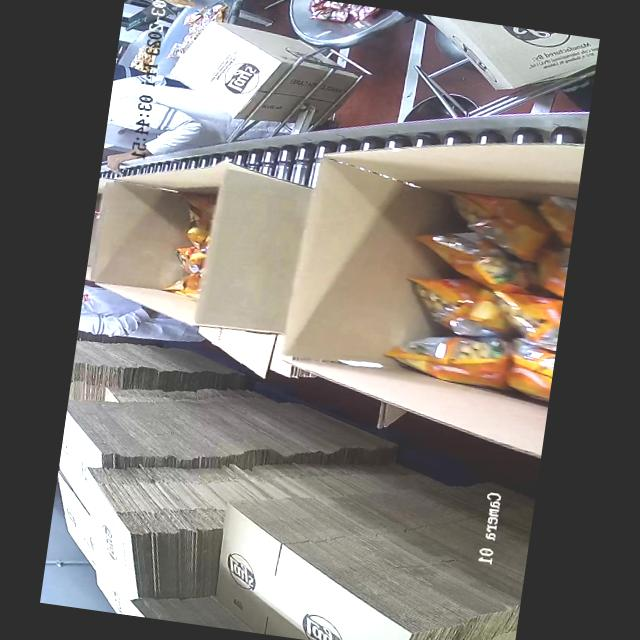cheese: (409, 198, 575, 404), (178, 198, 216, 304)
